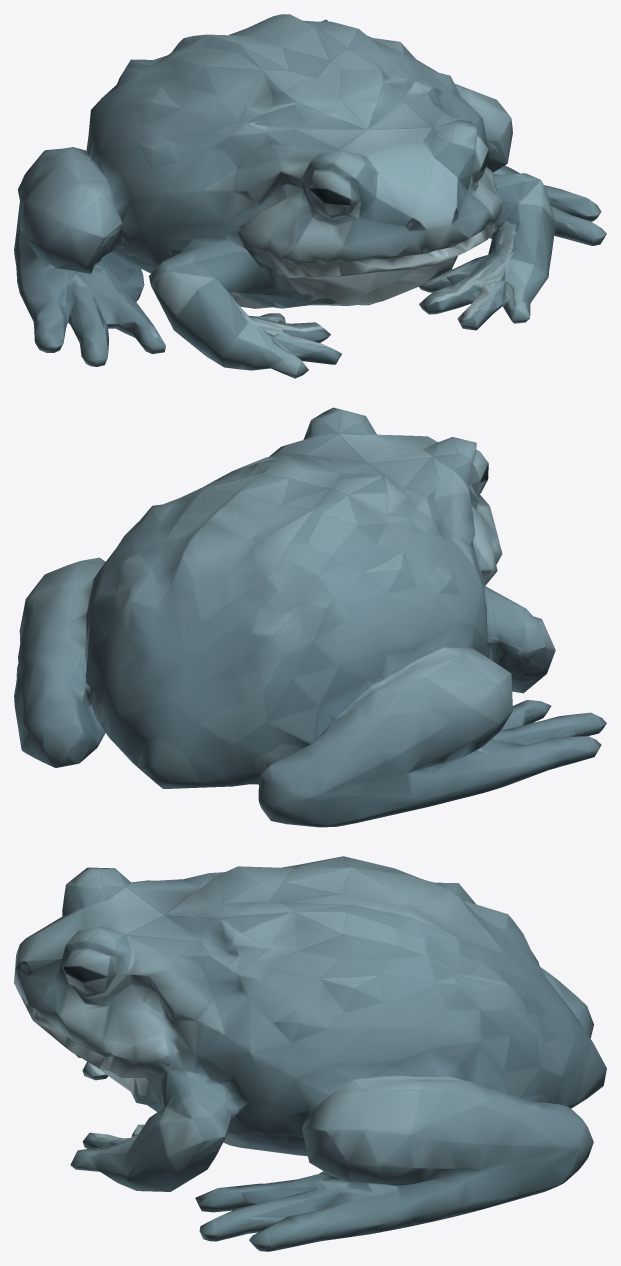
Rendered from Meshy_AI_Geometric_Toad_0811080929_texture.glb.
3 renders of one model, top to bottom at view 1: azimuth 30°, elevation 25°; view 2: azimuth 150°, elevation 25°; view 3: azimuth 270°, elevation 25°, orthographic. The views are drawn at different scales.
Visible parts, largest first — view 1: Mesh1.0; view 2: Mesh1.0; view 3: Mesh1.0.
Part boxes in pixels (bbox=[...]): Mesh1.0: bbox=[14, 14, 606, 378]; Mesh1.0: bbox=[14, 407, 606, 827]; Mesh1.0: bbox=[14, 856, 606, 1251].
Size of the model in its own units: 1.9 by 0.7032 by 1.67.
1 material, 1 textured.
